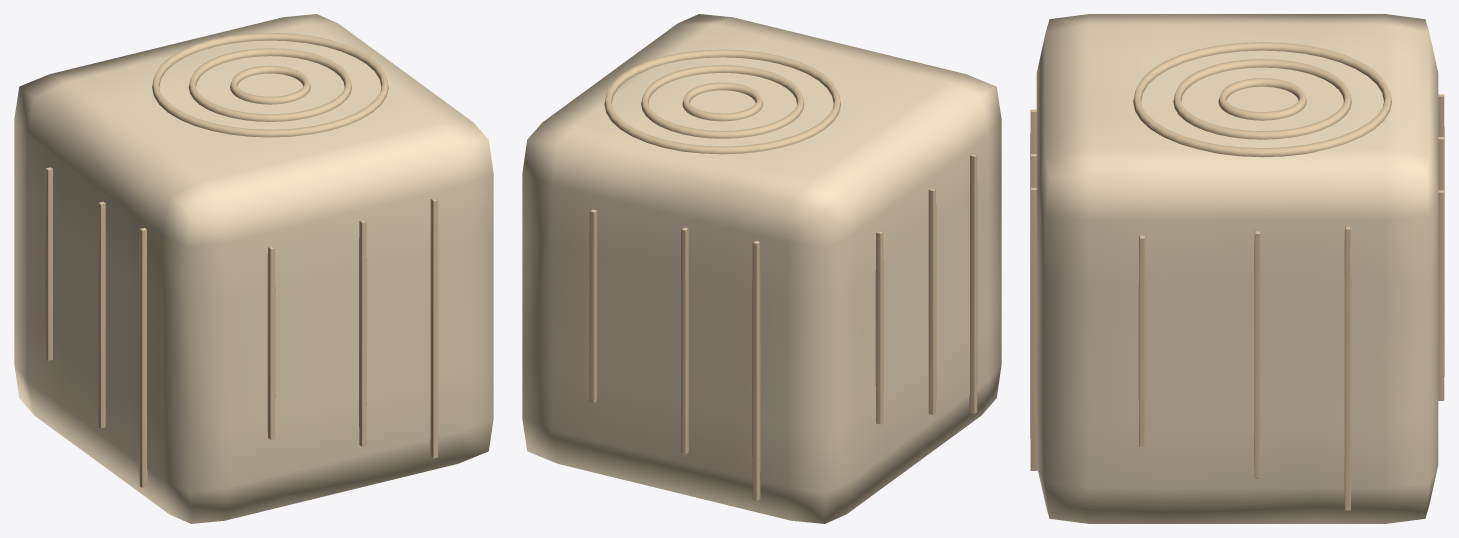
The model's file is TanksBlock.glb.
3 renders of one model, left to right at view 1: azimuth 30°, elevation 25°; view 2: azimuth 150°, elevation 25°; view 3: azimuth 270°, elevation 25°, orthographic. The views are drawn at different scales.
Parts seen in each view (by area): view 1: Wood, Grain; view 2: Wood, Grain; view 3: Wood, Grain.
Boxes of the visible parts, left/top/right/bottom form: Wood: left=14, top=14, right=493, bottom=523; Grain: left=45, top=32, right=438, bottom=487; Wood: left=522, top=14, right=1001, bottom=523; Grain: left=589, top=49, right=977, bottom=500; Wood: left=1036, top=14, right=1438, bottom=523; Grain: left=1030, top=42, right=1444, bottom=510.
Size of the model in its own units: 8.26 by 8.13 by 8.26.
